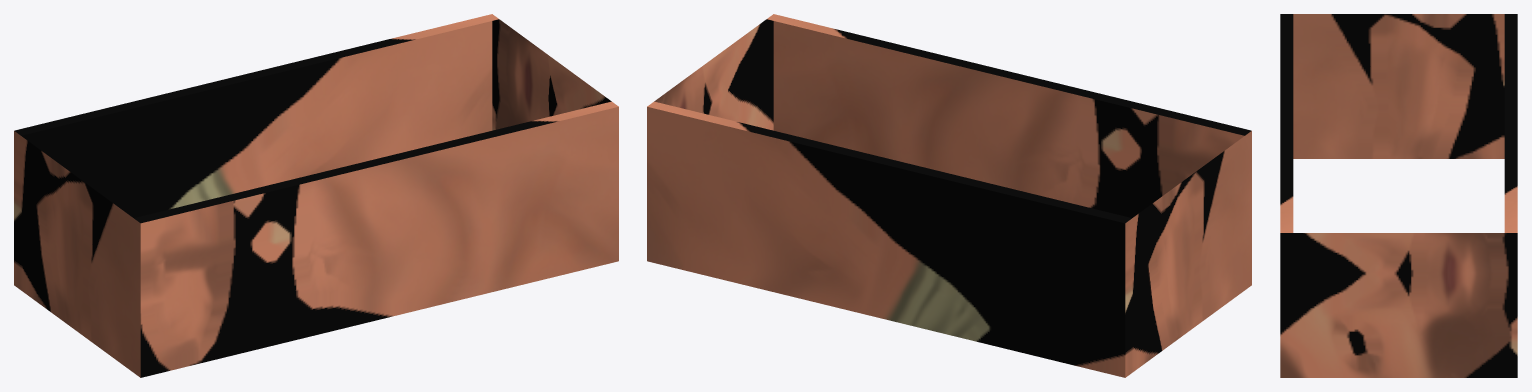
Rendered from Rampart_Bottom_01.fbx.
3 renders of one model, left to right at view 1: azimuth 30°, elevation 25°; view 2: azimuth 150°, elevation 25°; view 3: azimuth 270°, elevation 25°, orthographic. The views are drawn at different scales.
Parts seen in each view (by area): view 1: Rampart_Bottom_01; view 2: Rampart_Bottom_01; view 3: Rampart_Bottom_01.
Part boxes in pixels (x1,y1,x2,y2): Rampart_Bottom_01: (14,14,618,377); Rampart_Bottom_01: (647,14,1251,377); Rampart_Bottom_01: (1280,14,1517,377).
Bounding box in the file's own units: 3.5 × 1.08 × 1.6.
